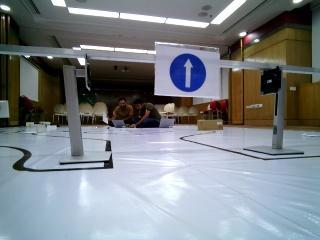straight: (157, 42, 225, 100)
